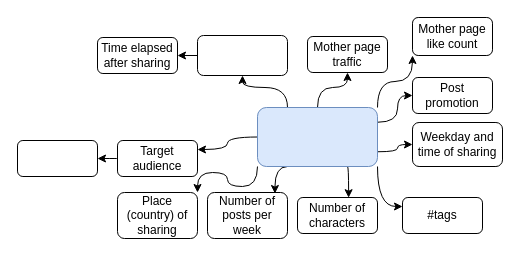
Some shapes in this 520 by 256 pixel diagram are drawn without their labels. Here are the shapes that lost their labels. From the top down, the centre of each, then its label:
pixel 242 55: Number of likes and comments
pixel 317 136: Facebooks' post popularity
pixel 57 158: Niche type
